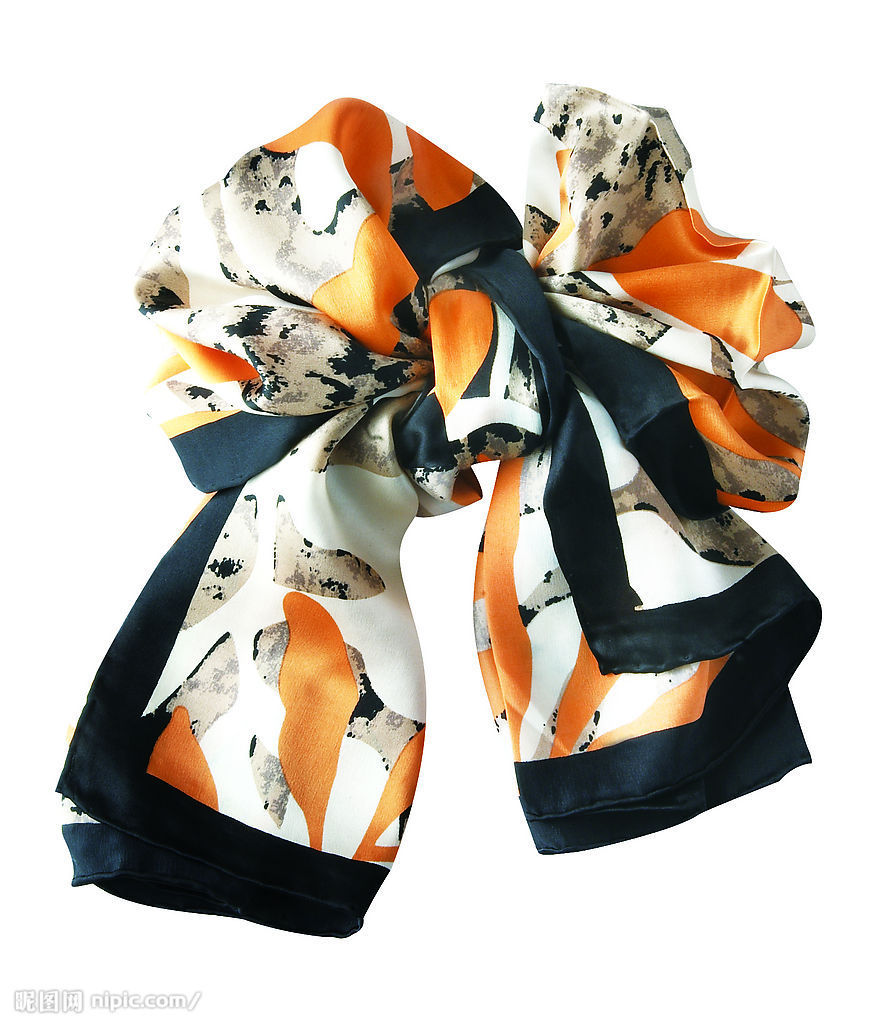flexible: (64, 84, 824, 946)
